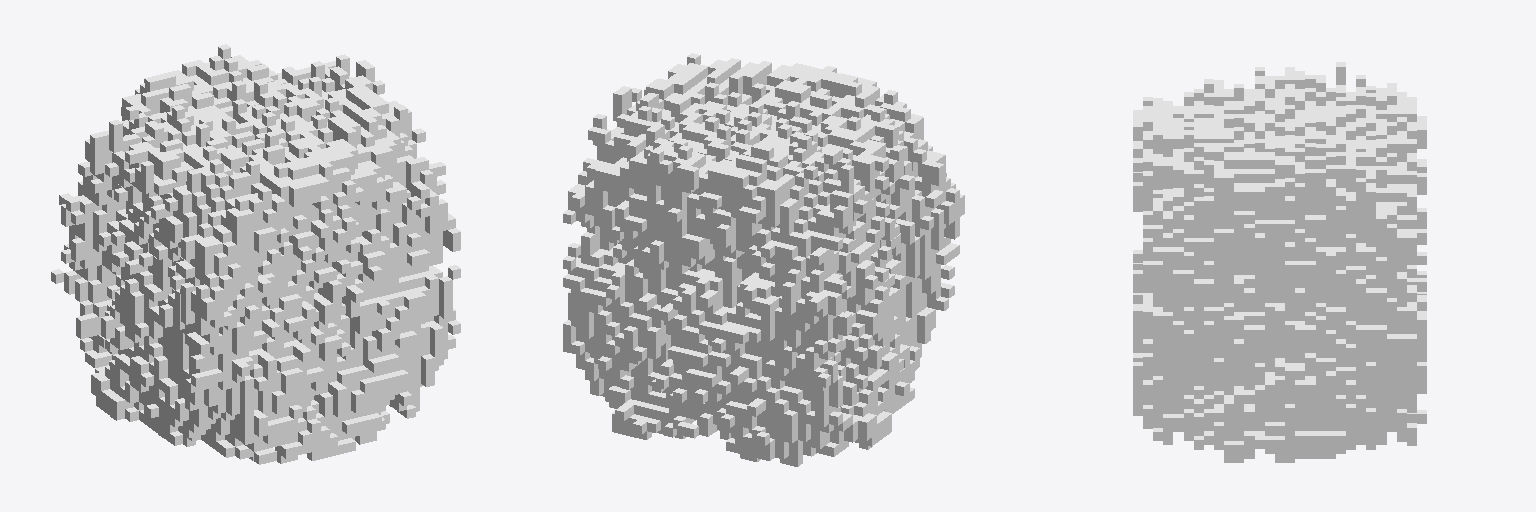
Rendered from Rock.obj.
3 views of the same model, side by side, from view 1: azimuth 30°, elevation 25°; view 2: azimuth 150°, elevation 25°; view 3: azimuth 270°, elevation 25° (orthographic).
Size of the model in its own units: 30 by 32 by 29.